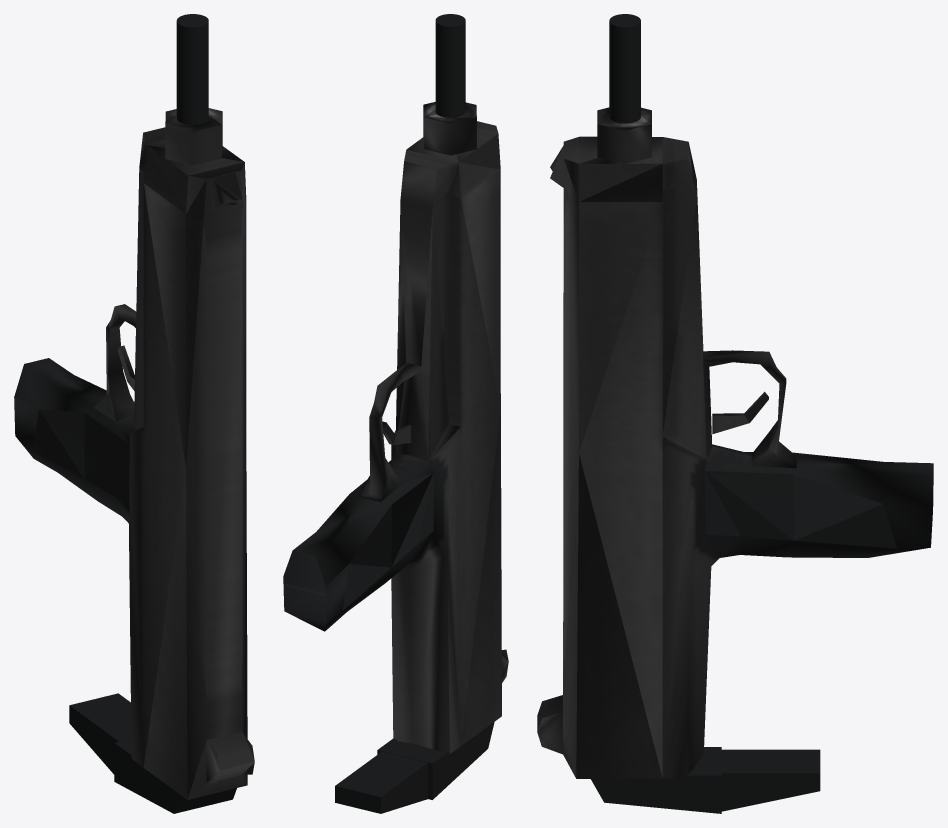
File: UZI_NoMagazine.fbx
3 views of the same model, side by side, from view 1: azimuth 30°, elevation 25°; view 2: azimuth 150°, elevation 25°; view 3: azimuth 270°, elevation 25° (orthographic). The views are drawn at different scales.
Parts seen in each view (by area): view 1: node_7eb8945f_c9b5_4b90_a62e_b771b0daf3d9_mesh0; view 2: node_7eb8945f_c9b5_4b90_a62e_b771b0daf3d9_mesh0; view 3: node_7eb8945f_c9b5_4b90_a62e_b771b0daf3d9_mesh0.
Boxes of the visible parts, x1,y1,x2,y2 form: node_7eb8945f_c9b5_4b90_a62e_b771b0daf3d9_mesh0: (14, 14, 254, 813); node_7eb8945f_c9b5_4b90_a62e_b771b0daf3d9_mesh0: (283, 14, 508, 813); node_7eb8945f_c9b5_4b90_a62e_b771b0daf3d9_mesh0: (537, 14, 933, 813).
Bounding box in the file's own units: 0.0199 × 0.2485 × 0.1146.
